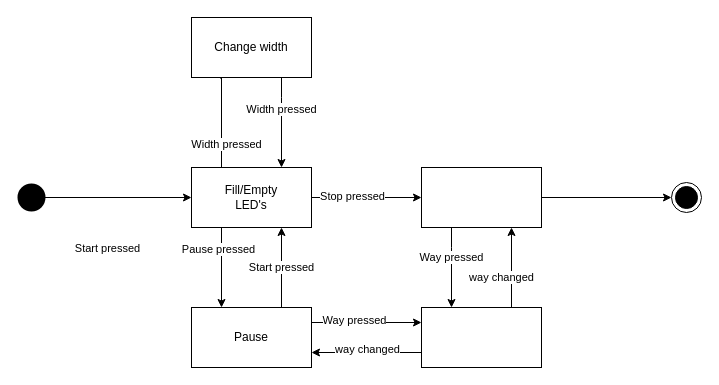
This 719x385 diagram has some shape labels left out. The shapes that lost their labels are listed below. From the top down, each one's centre as x and y in pixels, then its label:
At [481,197]: "Disable all LED's".
At [481,337]: "Change way".
